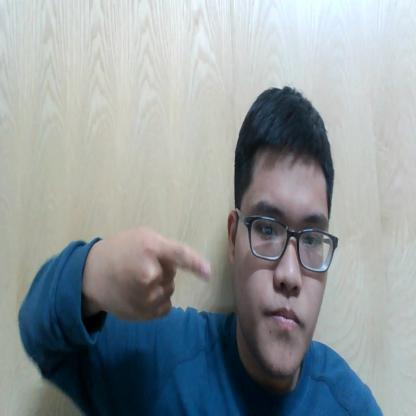left: (104, 214, 216, 337)
